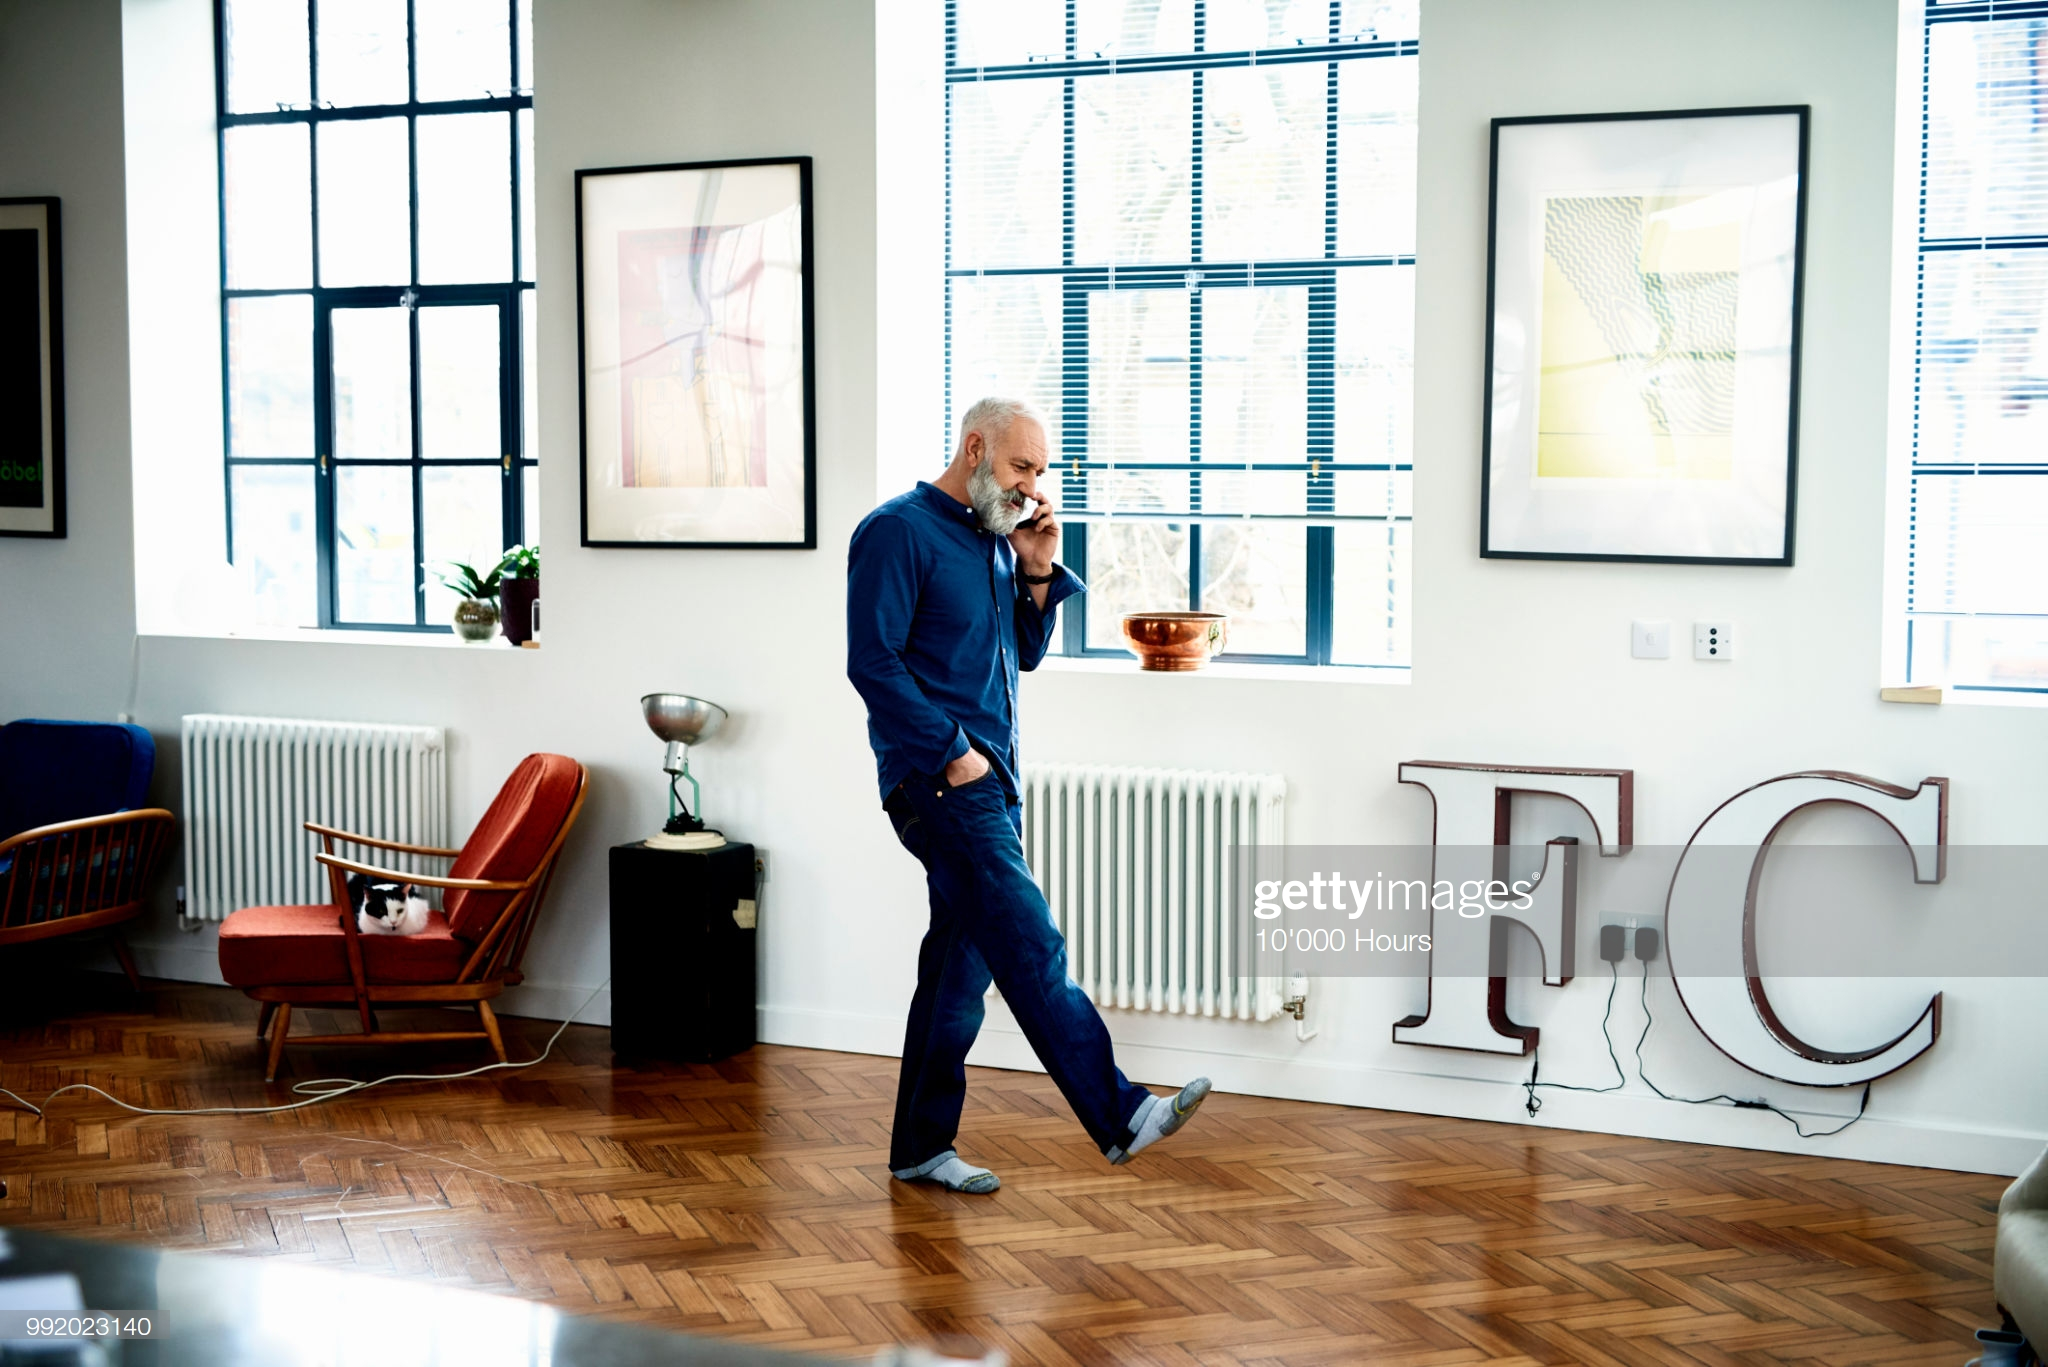phone: (1008, 490, 1063, 555)
